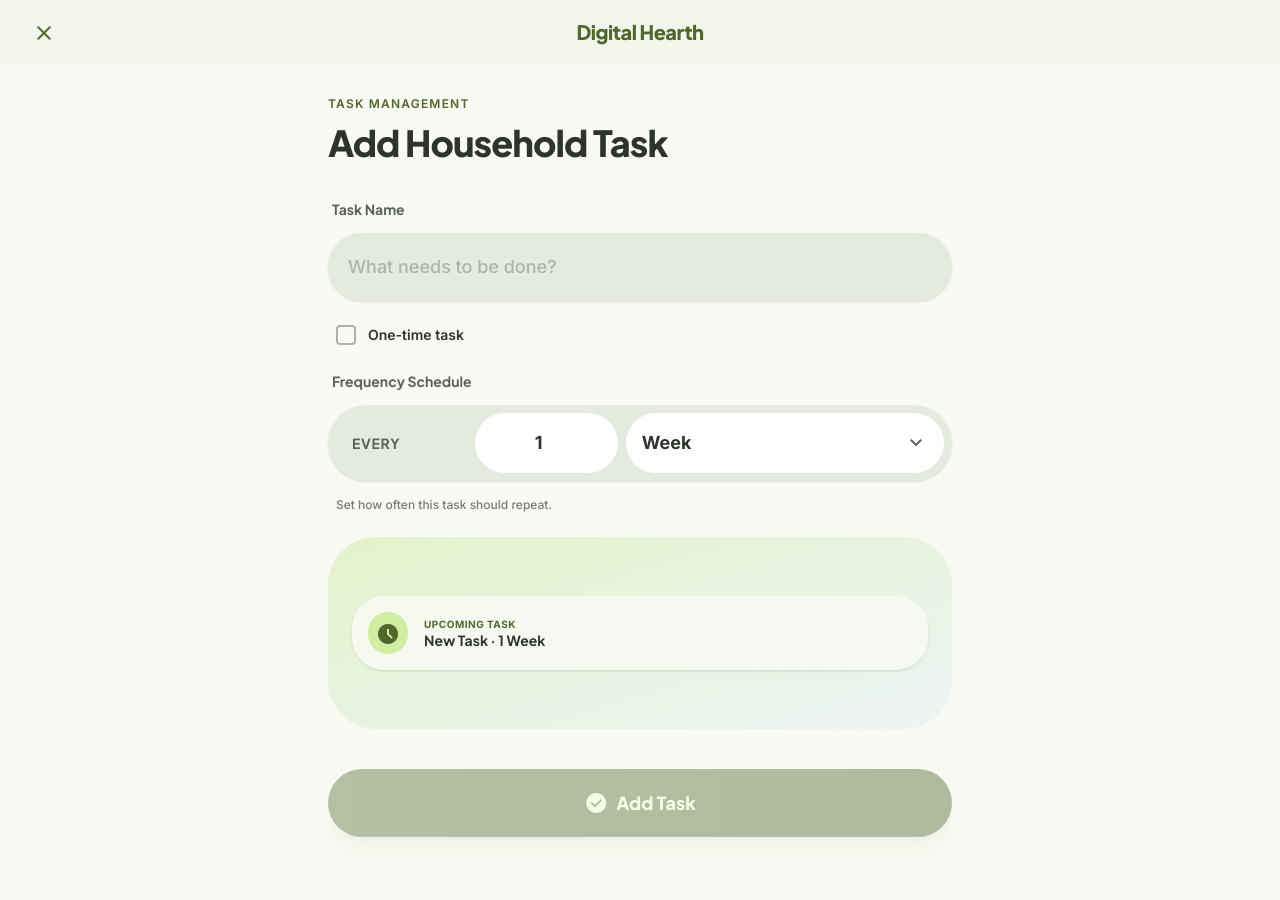
Test case: EditTask — new task (id="new") › shows an error message when save fails
The image size is (1280, 900).
Step 1. Type "Wash windows" into the field with placeholder "What needs to be done?" → (640, 267), box [332,237,948,297]
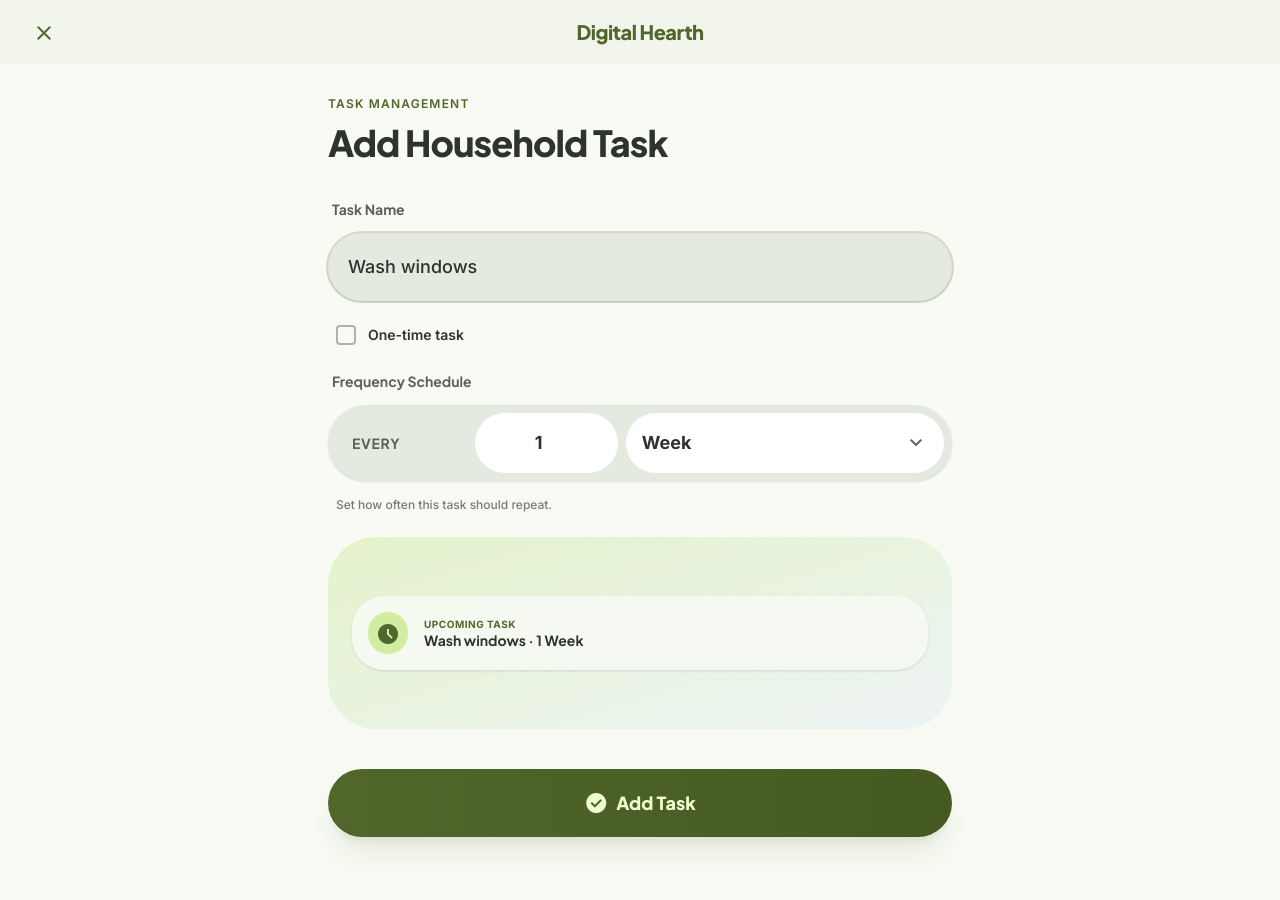
Step 2. Click the button "Add Task" → click(640, 803), box [328,769,952,837]
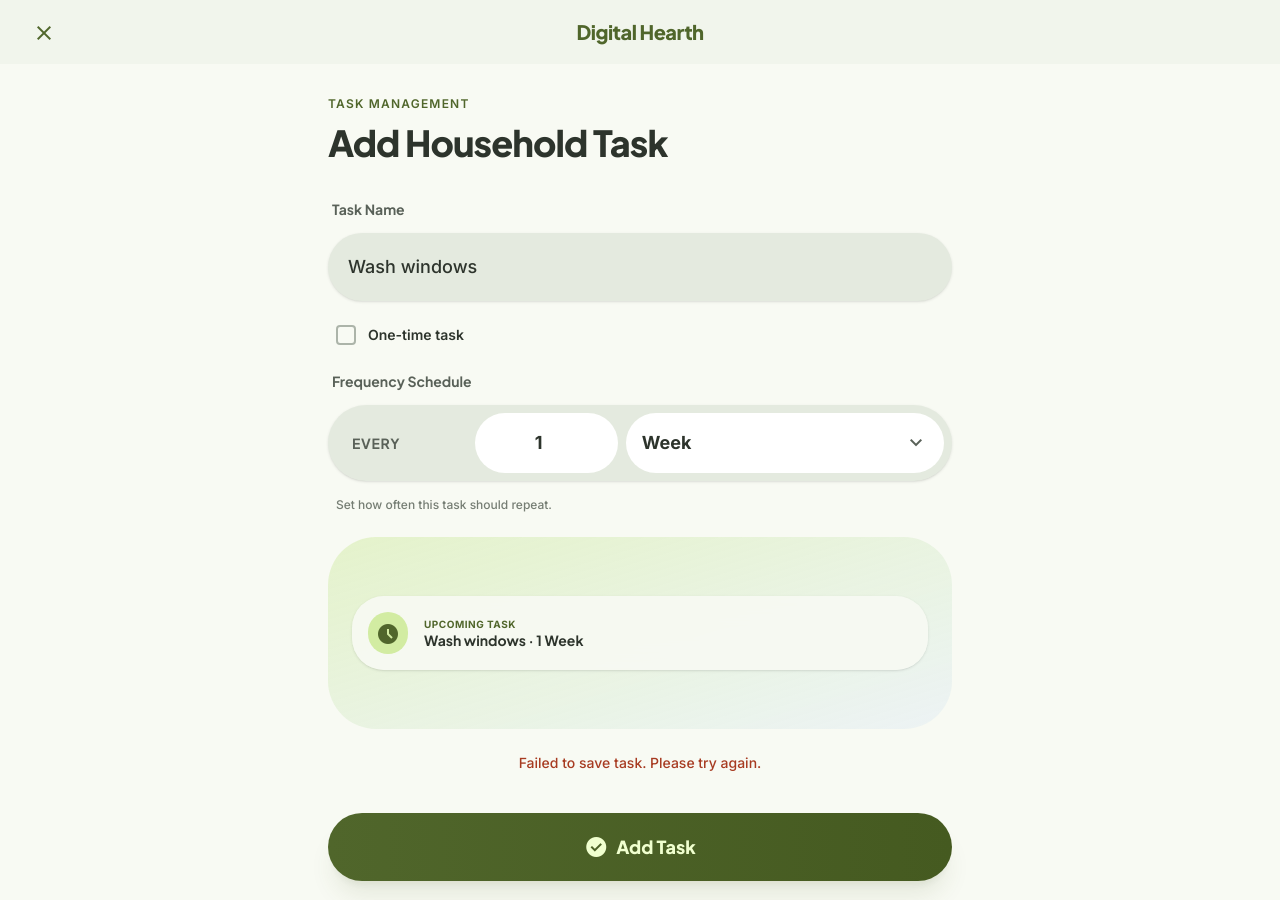
Expected: the text "Failed to save task. Please try again." is shown, [519,754,761,771]
